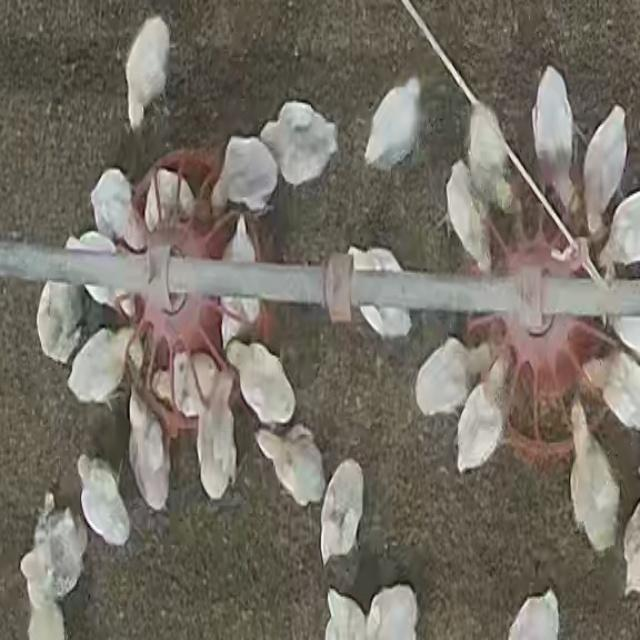chicken: (568, 401, 618, 551), (259, 99, 340, 187), (459, 358, 517, 475), (59, 232, 136, 320), (532, 67, 576, 216), (362, 76, 427, 168), (349, 246, 412, 338), (415, 337, 490, 414), (582, 108, 626, 238), (466, 102, 517, 214), (229, 338, 295, 424), (218, 216, 264, 338), (256, 424, 324, 506), (124, 14, 171, 126), (196, 374, 237, 501), (67, 328, 131, 409), (214, 135, 278, 215), (130, 389, 170, 512), (76, 456, 129, 548), (444, 161, 487, 271), (320, 459, 364, 564), (89, 167, 139, 247), (154, 352, 221, 408), (35, 282, 80, 364), (144, 173, 201, 229)
